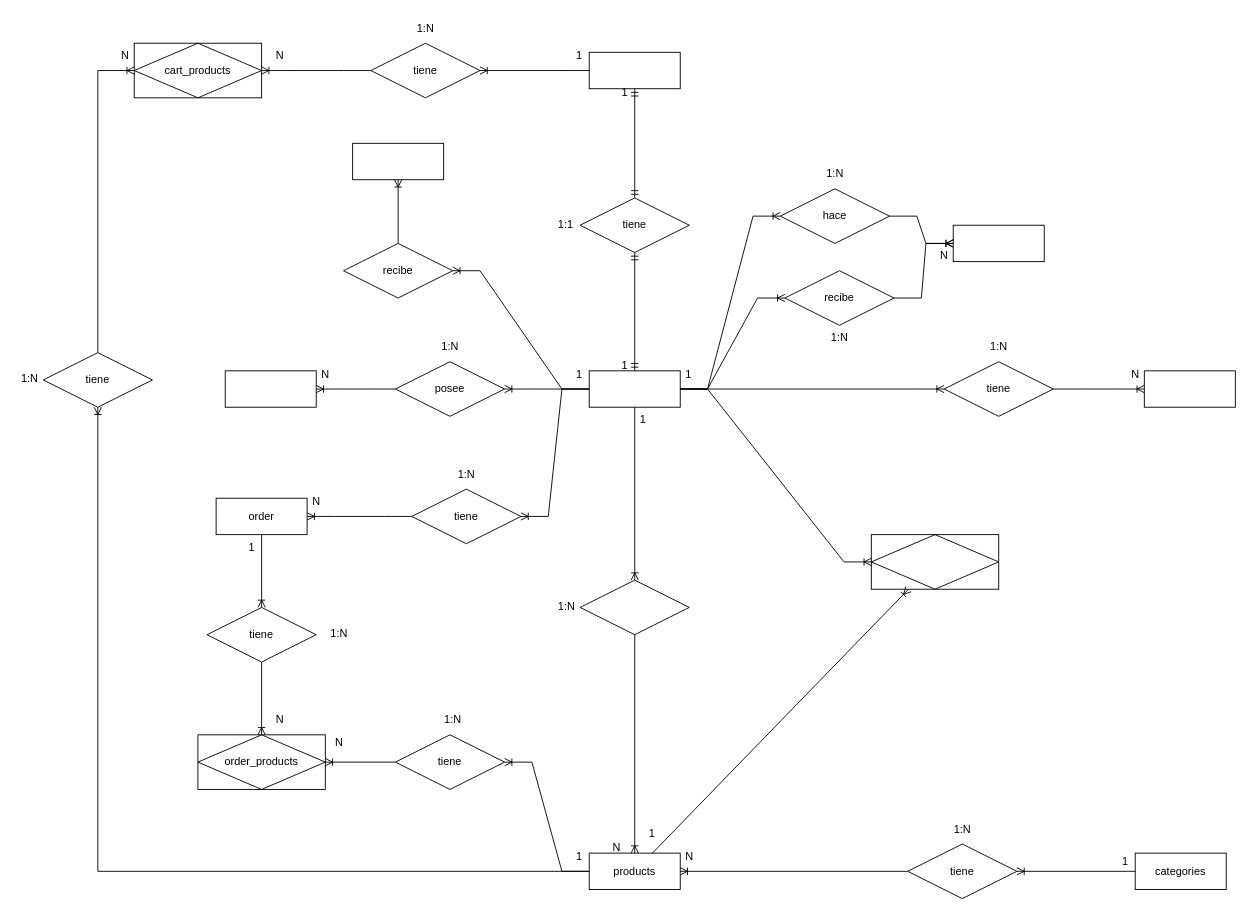
This 1251x915 diagram has some shape labels left out. Here are the shapes that lost their labels. From the top down, the centre of each, then its label:
At [634,70]: "shopping_carts".
At [398,161]: "notifications".
At [998,243]: "sanctions".
At [270,388]: "users_cards".
At [634,388]: "users".
At [1189,388]: "roles".
At [934,561]: "ratings".
At [634,607]: "vende".
